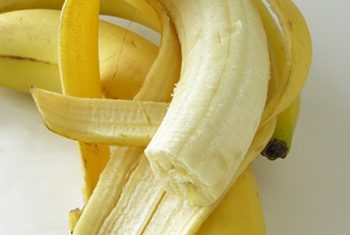banana: (127, 6, 301, 209), (1, 8, 168, 133)
